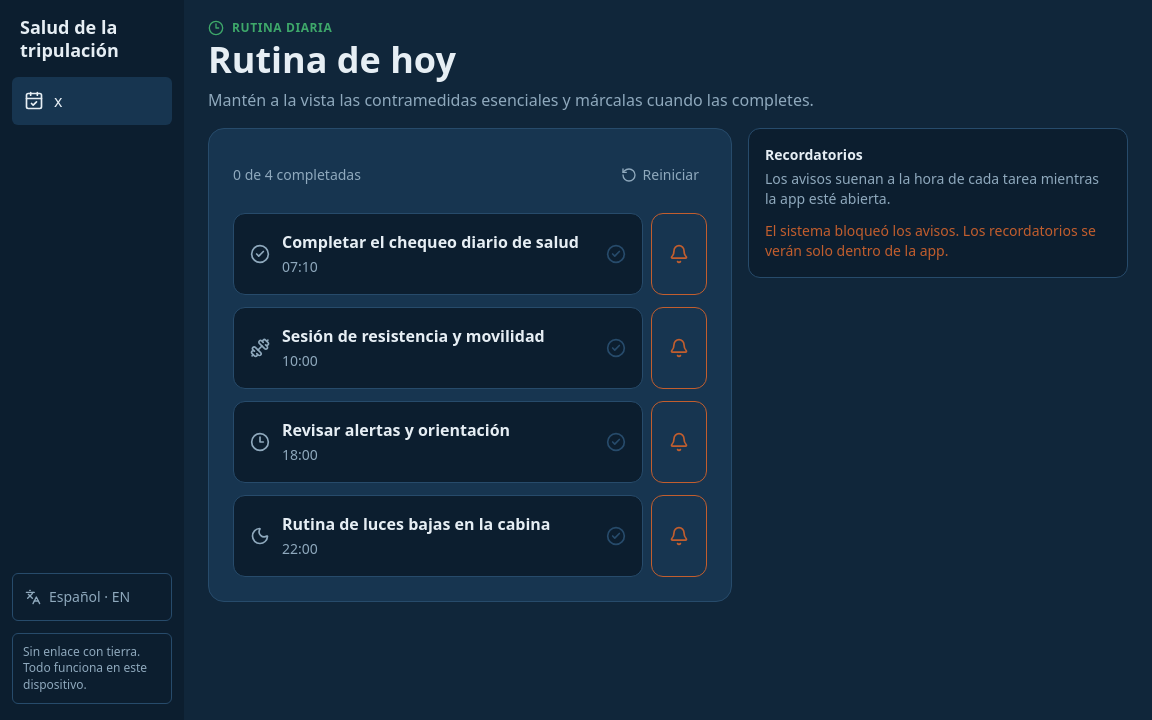
Test: pantallas › el botón cambia el idioma de la navegación y lo recuerda
The width and height of the screenshot is (1152, 720).
Expected: the text "Salud de la tripulación" is shown, [20,15,119,62]
Click the button with aria-label "Cambiar a inglés".
click(92, 596)  # box [12,572,172,620]
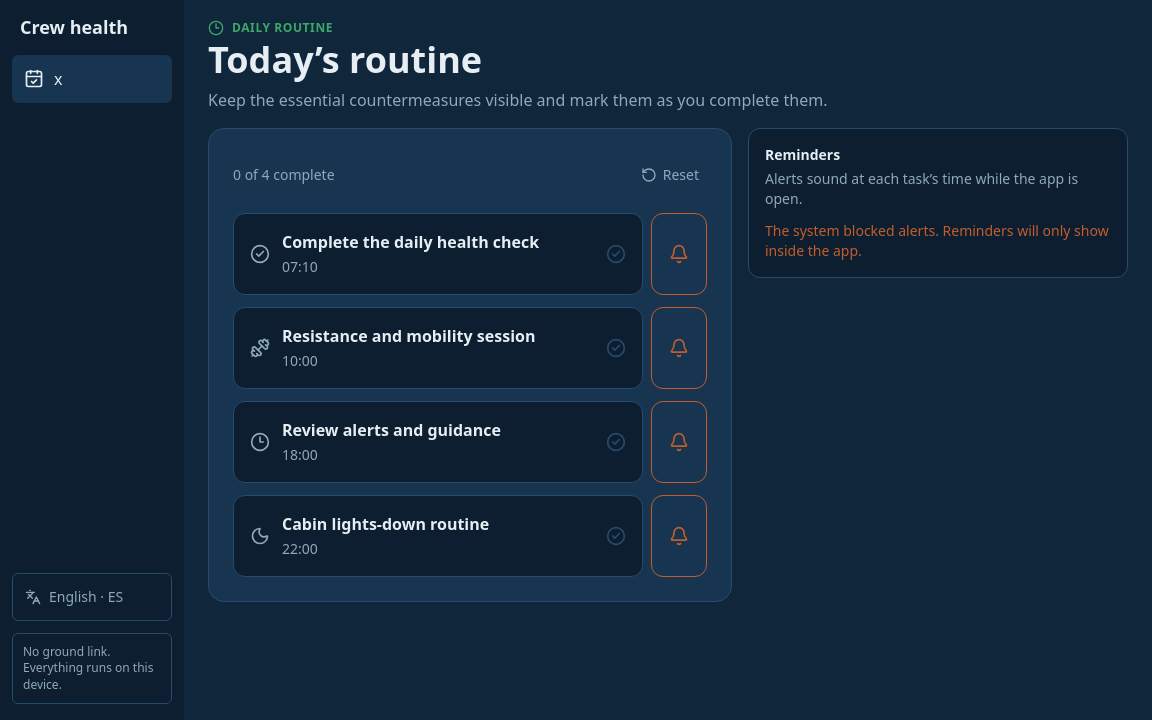
Result: the text "Crew health" is shown at [20,15,128,39]
Result: the heading "Today’s routine" is shown at [208,35,482,84]
